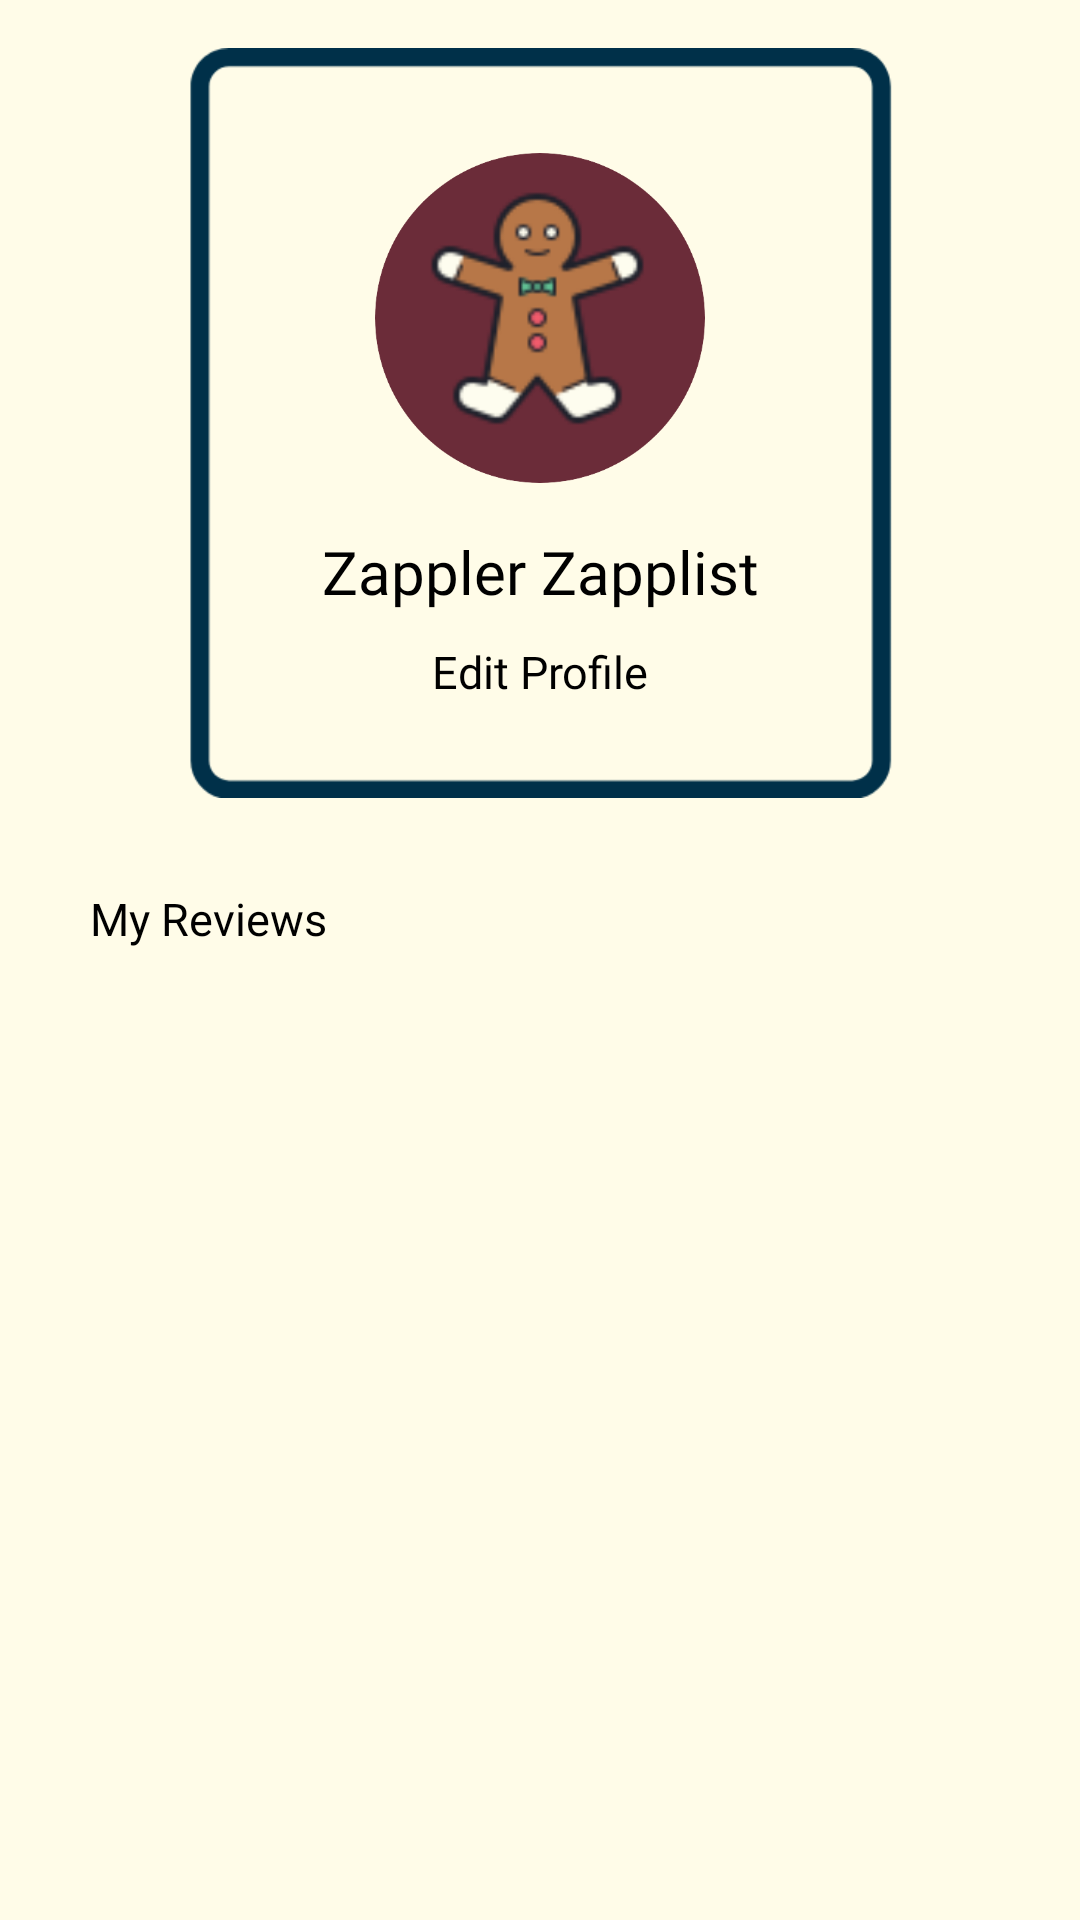

Screen size 1080w x 1920h. Icon name, then its box in pixels as (x1, y1, x2, y2):
placeholderprofile: (375, 153, 705, 483)
